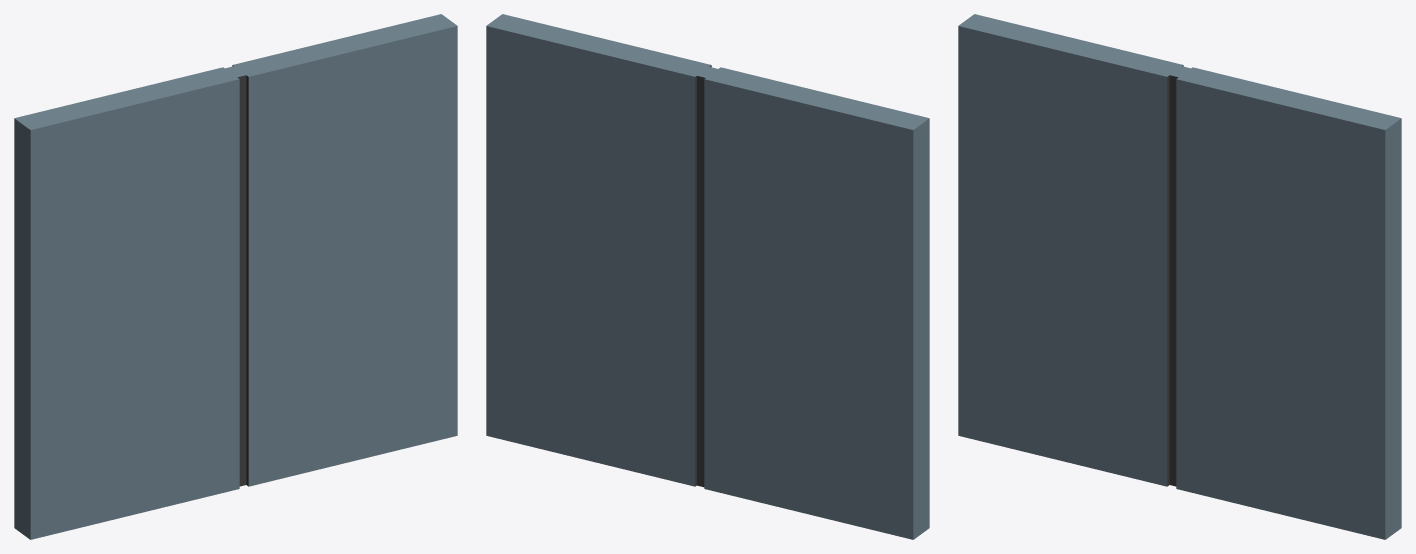
The model's file is Door.glb.
3 renders of one model, left to right at view 1: azimuth 30°, elevation 25°; view 2: azimuth 150°, elevation 25°; view 3: azimuth 330°, elevation 25°, orthographic.
Visible parts, largest first — view 1: Cube; view 2: Cube; view 3: Cube.
Part boxes in pixels (box(x1,y1,x2,y2)): Cube: box(14, 14, 457, 539); Cube: box(486, 14, 929, 539); Cube: box(958, 14, 1401, 539).
Bounding box in the file's own units: 6 × 5.5 × 0.3967.
